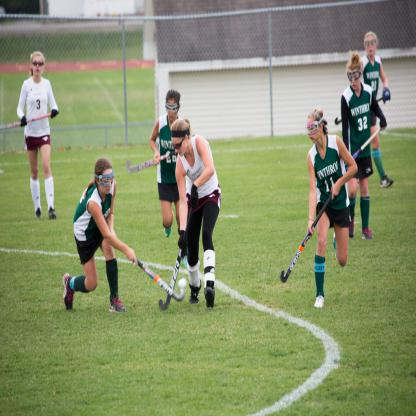Ball: (178, 278, 188, 290)
